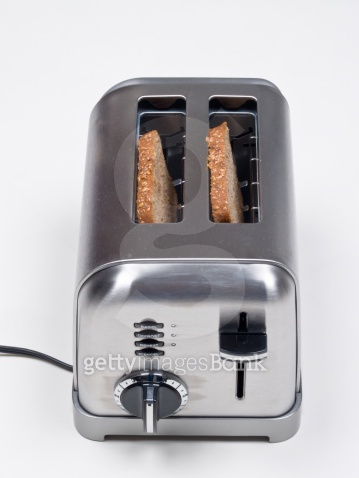slice of bread: (132, 127, 178, 225), (206, 122, 242, 222)
